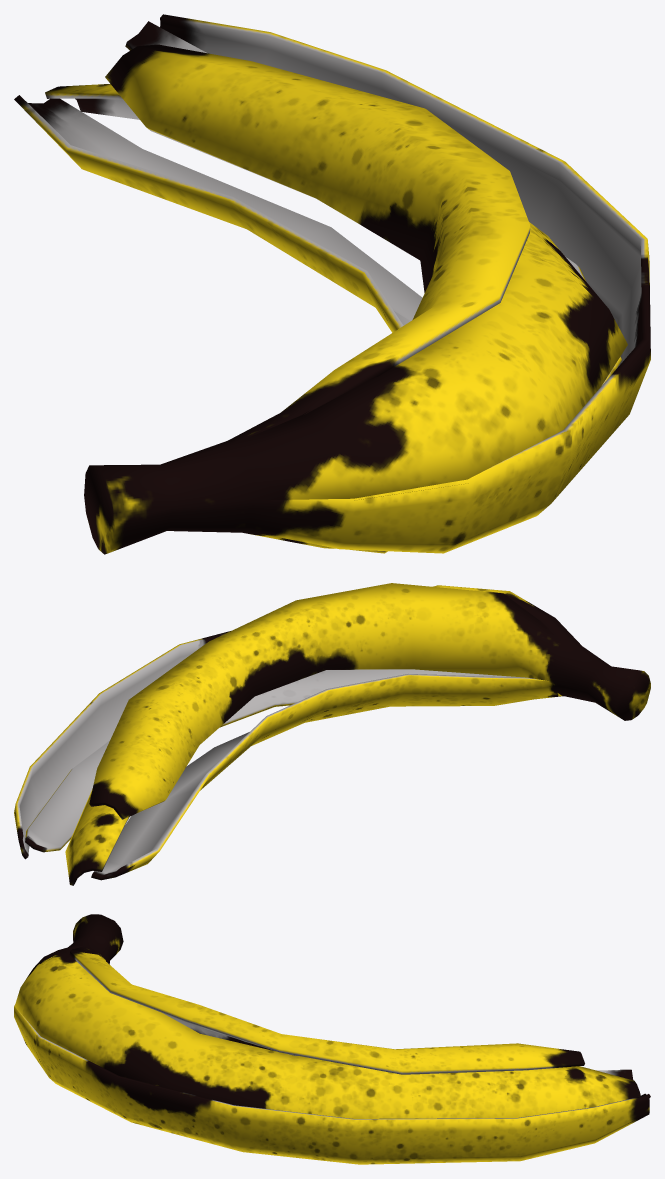
The model's file is banana2.fbx.
The picture shows the model from 3 angles, top to bottom: view 1: azimuth 30°, elevation 25°; view 2: azimuth 150°, elevation 25°; view 3: azimuth 270°, elevation 25°; orthographic projection. The views are drawn at different scales.
Visible parts, largest first — view 1: banana2; view 2: banana2; view 3: banana2.
Part boxes in pixels (left/top/right/bottom): banana2: left=14, top=14, right=650, bottom=554; banana2: left=14, top=583, right=650, bottom=885; banana2: left=14, top=914, right=650, bottom=1164.
Size of the model in its own units: 91.26 by 63.99 by 17.37.
1 material, 1 textured.
